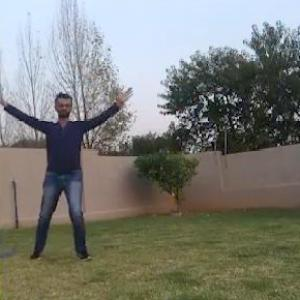takeoff: (8, 95, 136, 250)
